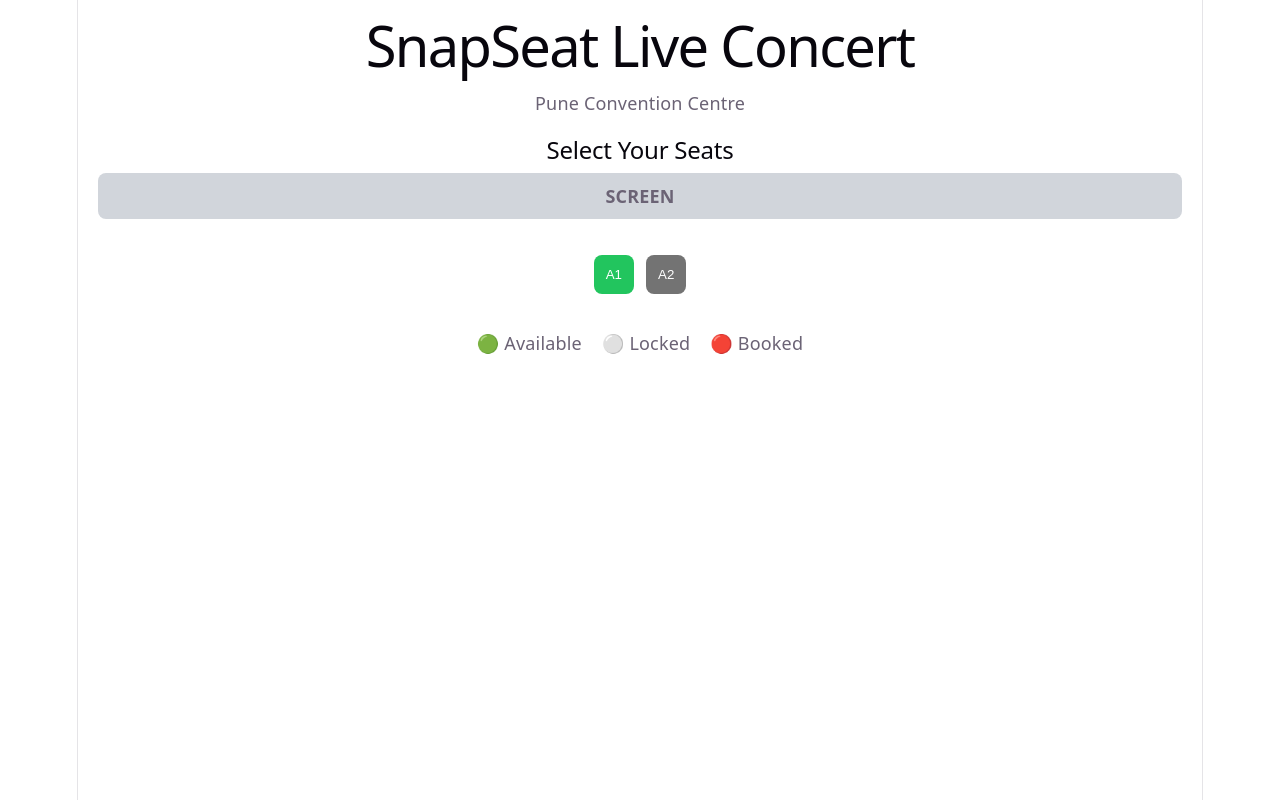
Test: EventDetails Component › should display an error when payment fails due to a network issue
Click the button "A1" at coordinates (614, 274), box [594,255,634,294]
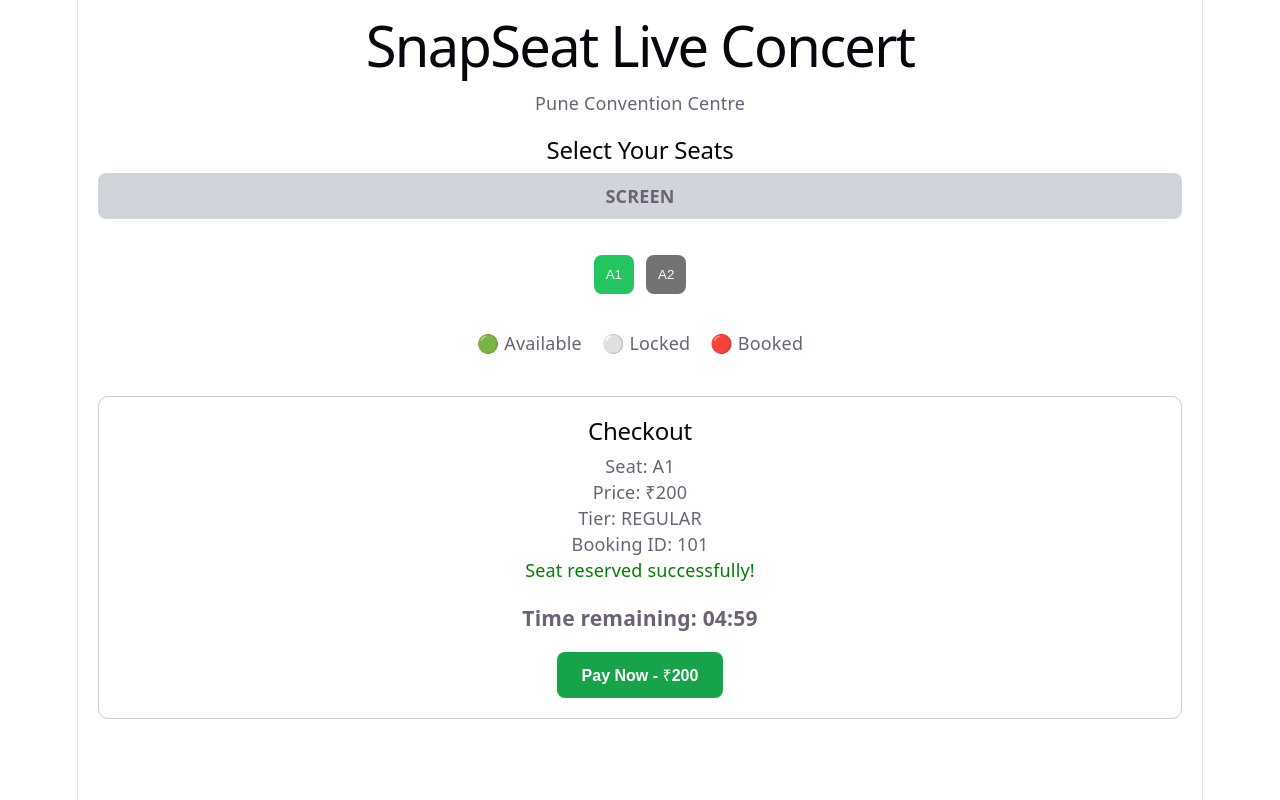
Click the button "Pay Now - ₹200" at coordinates (640, 675), box [557,652,723,698]
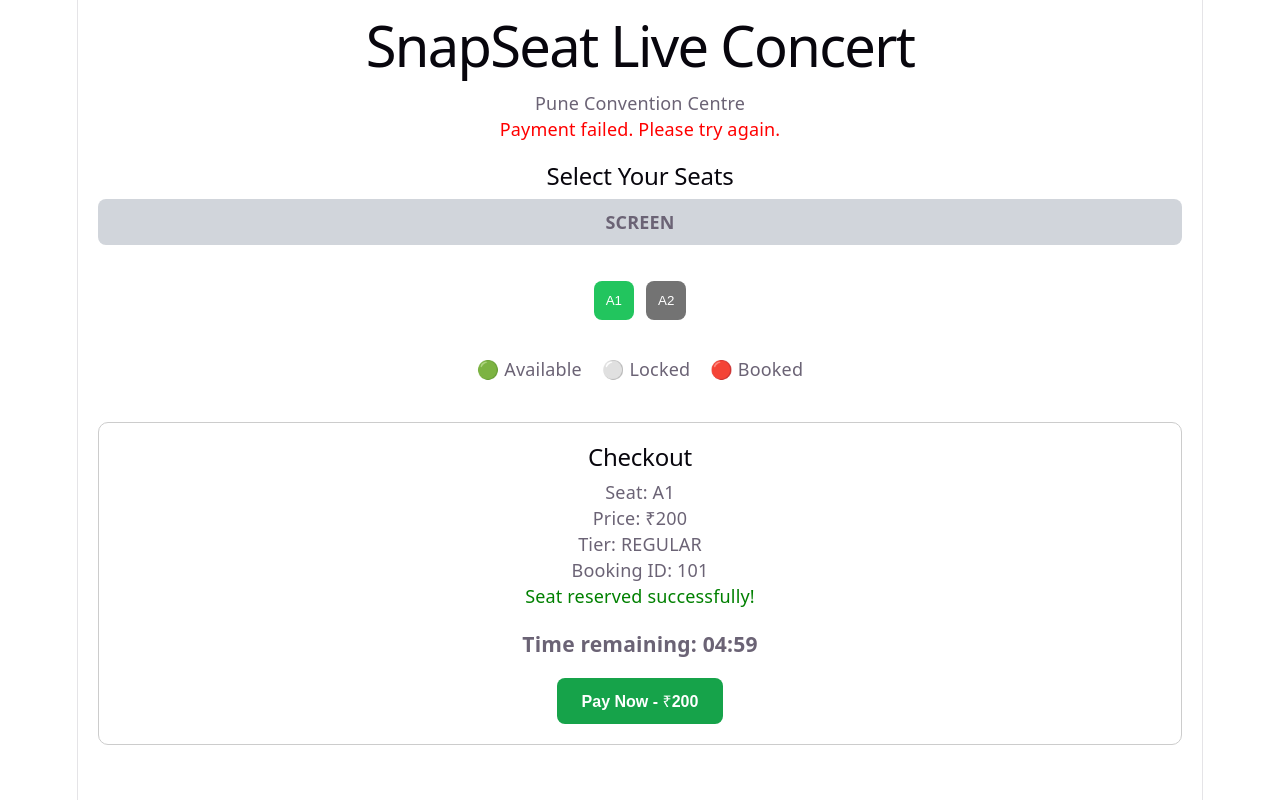
Expected: the button "A1" is enabled, [594,281,634,320]
Now the heading "Checkout" is shown, box [588,440,692,473]
Now the text "Payment failed. Please try again." is shown, box [500,117,780,141]
